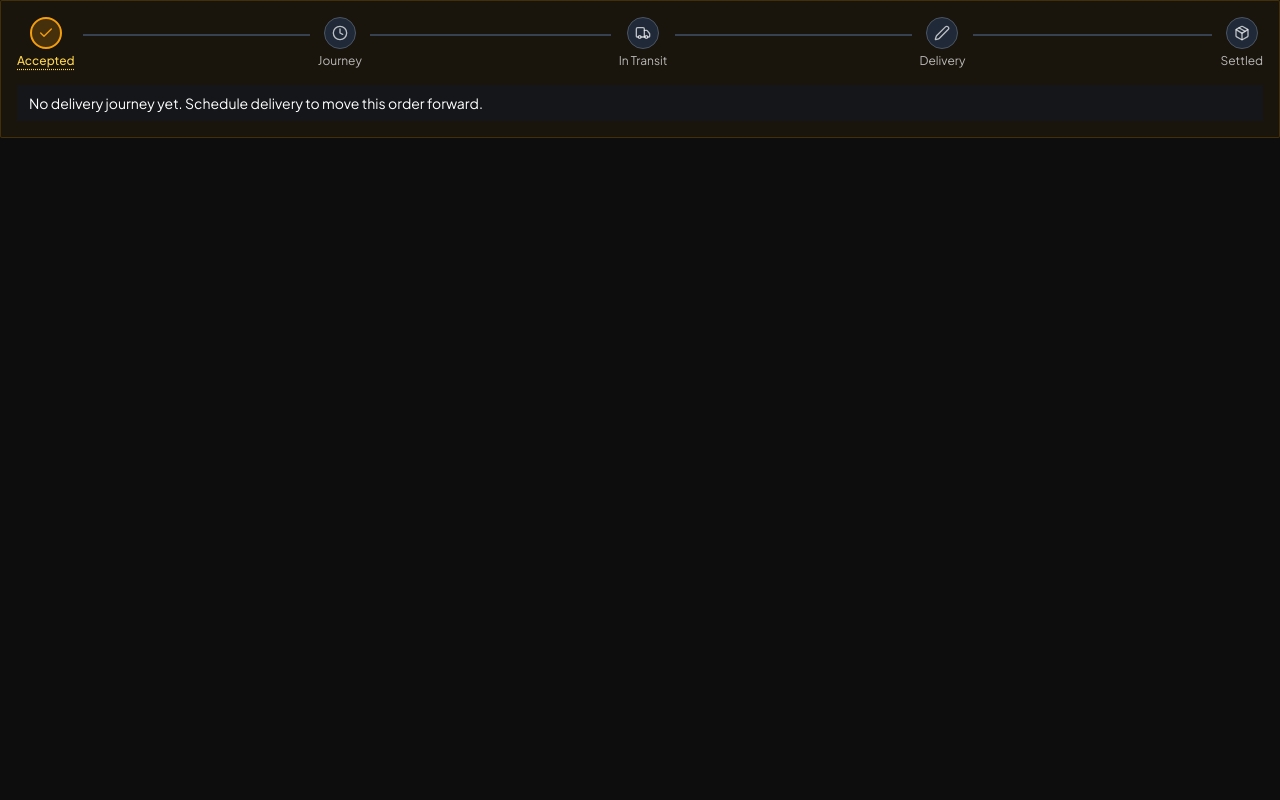
Test: P2POrderFlow › shows an empty state when a clickable step has no loaded transactions yet
Click the button with aria-label "Accepted step": click(46, 43) [17,17,74,69]
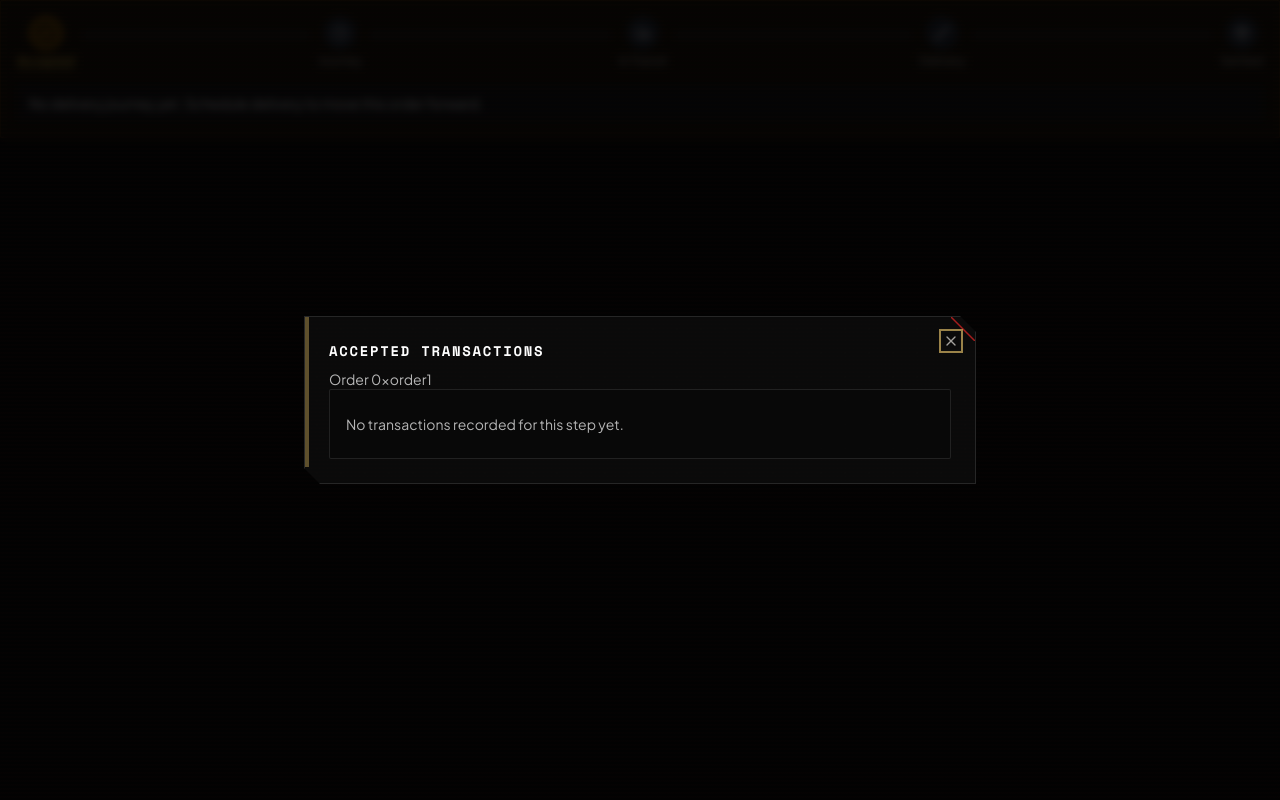
Expected: the heading "Accepted Transactions" is shown, [329,340,544,361]
Expected: the text "No transactions recorded for this step yet." is shown, [346,415,624,433]
